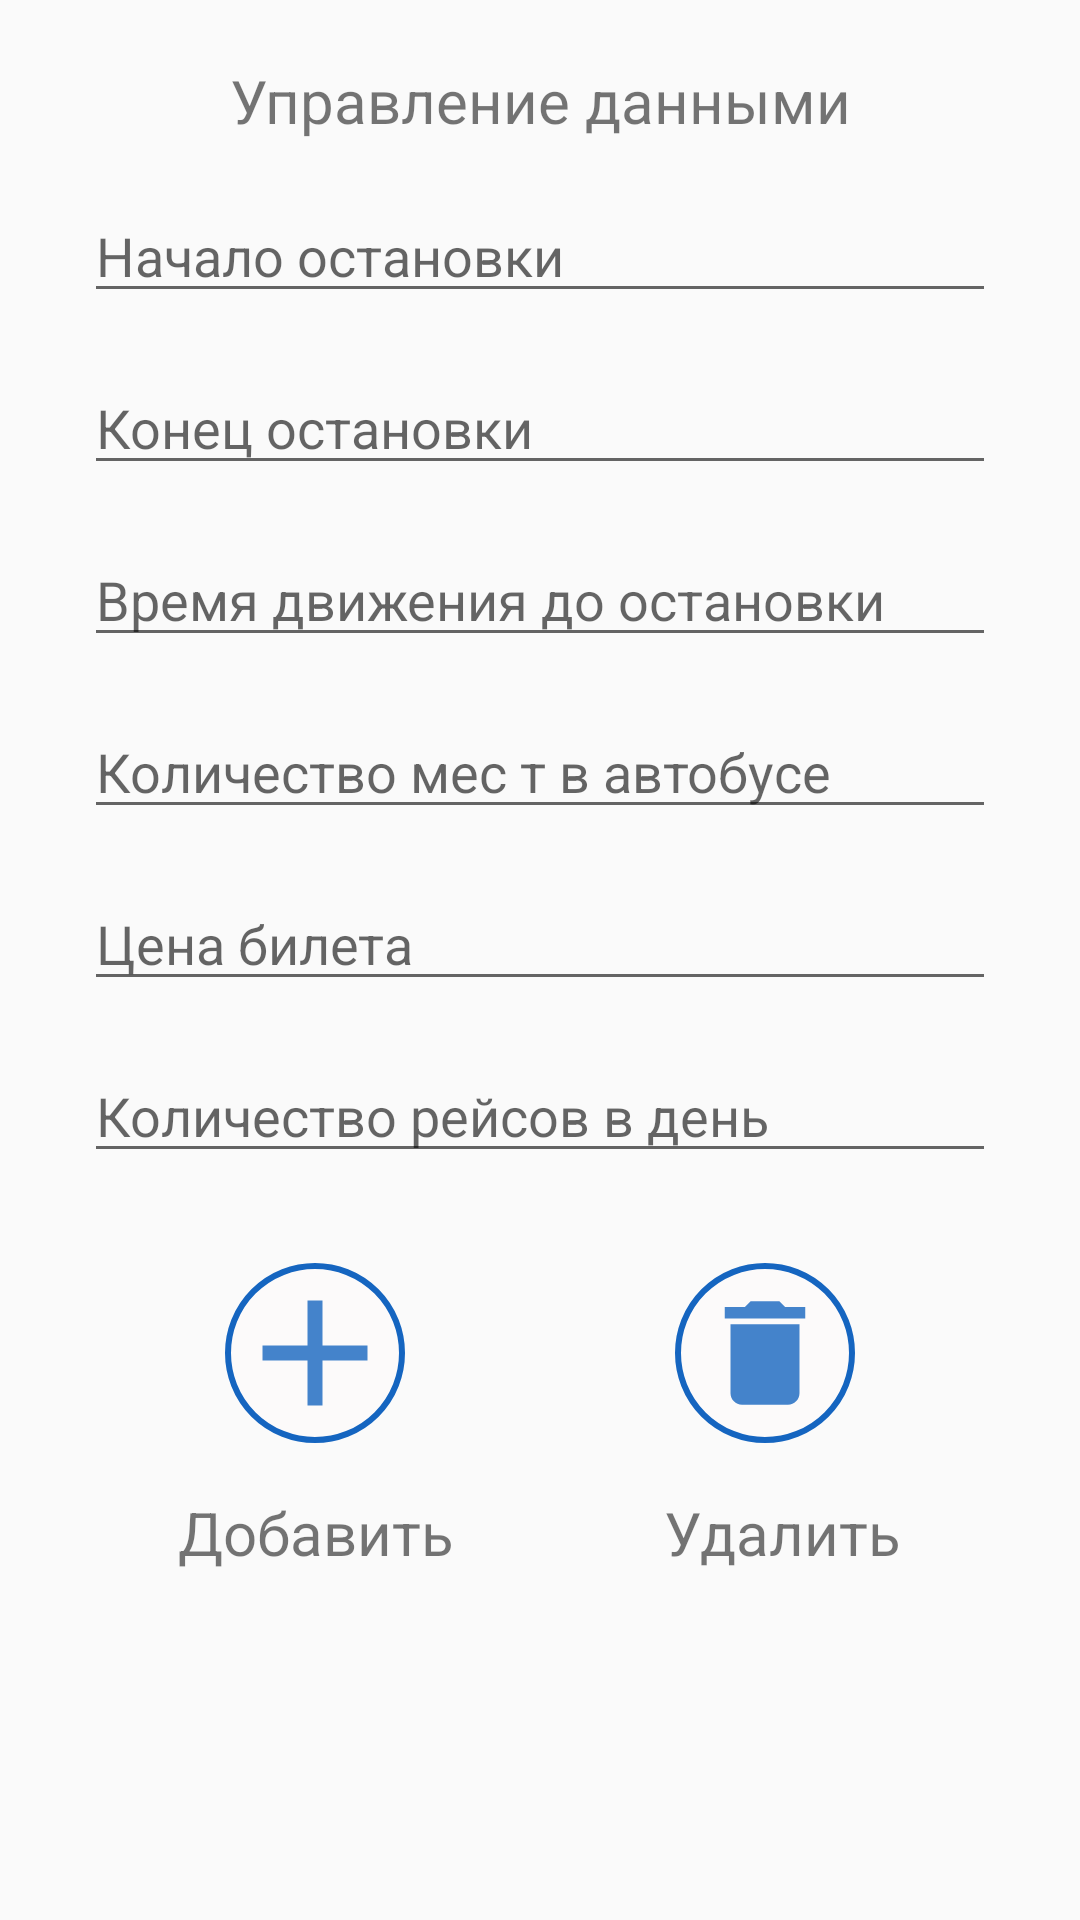

Screen size 1080 × 1920. Icon name, then its center in pixels as [x,y]:
add data: [315,1353]
delet: [765,1353]
